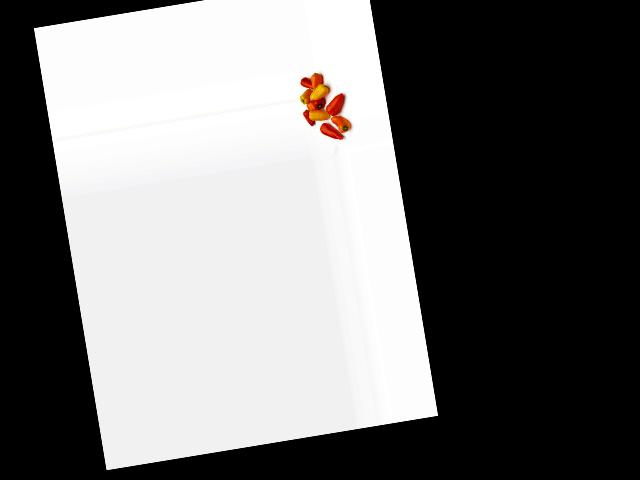bell_pepper: (301, 108, 314, 129)
